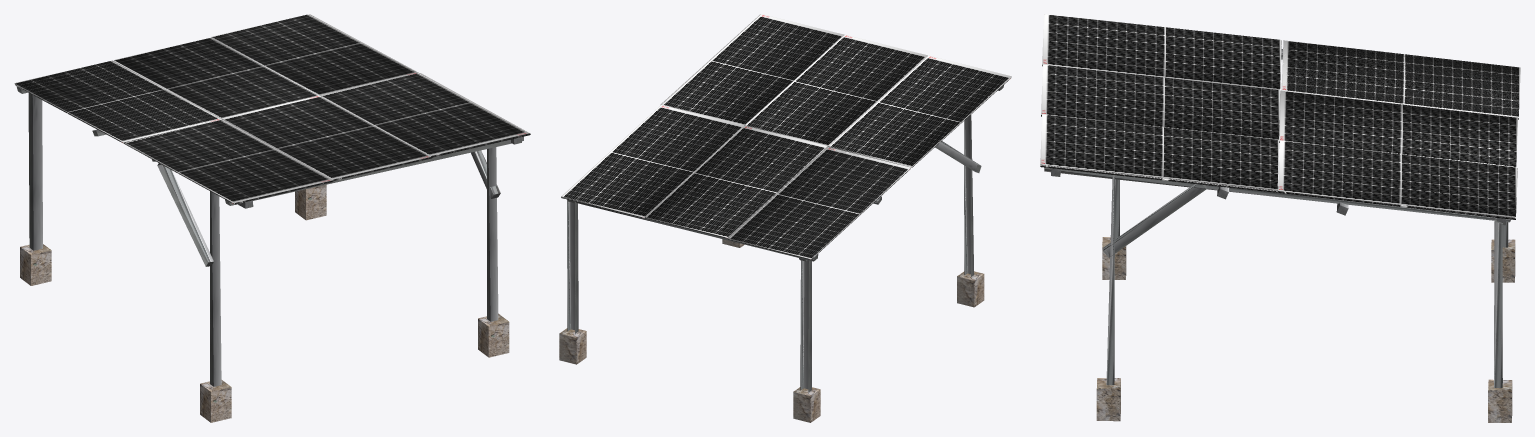
File: six panel  with 4 legs dcr  .fbx
3 renders of one model, left to right at view 1: azimuth 30°, elevation 25°; view 2: azimuth 150°, elevation 25°; view 3: azimuth 270°, elevation 25°, orthographic. The views are drawn at different scales.
Parts seen in each view (by area): view 1: panel3.001, panel2.001, panel6, panel.001, panel4.001, panel5, panel6.001, Cube.027, Cube.015, Cube.005, Cube.008, Cube.012 (+4 smaller); view 2: panel6, panel5, panel4.001, panel.001, panel3.001, panel2.001, panel6.001, Cube.027, Cube.018, Cube.015, Cube, Cube.010 (+3 smaller); view 3: panel.001, panel4.001, panel6, panel3.001, panel5, panel2.001, panel6.001, Cube.002, Cube.018, Cube.007, Cube.005, Cube.012 (+5 smaller).
Boxes of the visible parts, left/top/right/bottom form: panel3.001: left=125, top=120, right=333, bottom=204; panel2.001: left=224, top=96, right=432, bottom=180; panel6: left=14, top=60, right=222, bottom=143; panel.001: left=321, top=73, right=529, bottom=156; panel4.001: left=211, top=14, right=418, bottom=96; panel5: left=114, top=37, right=321, bottom=119; panel6.001: left=18, top=62, right=221, bottom=139; Cube.027: left=28, top=93, right=42, bottom=250; Cube.015: left=210, top=191, right=221, bottom=386; Cube.005: left=487, top=147, right=498, bottom=321; Cube.008: left=157, top=163, right=213, bottom=266; Cube.012: left=478, top=313, right=509, bottom=357; panel6: left=728, top=147, right=910, bottom=259; panel5: left=645, top=125, right=827, bottom=238; panel4.001: left=561, top=105, right=744, bottom=216; panel.001: left=661, top=14, right=844, bottom=125; panel3.001: left=829, top=55, right=1011, bottom=166; panel2.001: left=745, top=35, right=927, bottom=145; panel6.001: left=730, top=147, right=898, bottom=258; Cube.027: left=800, top=260, right=811, bottom=392; Cube.018: left=567, top=199, right=578, bottom=333; Cube.015: left=964, top=114, right=974, bottom=276; Cube: left=559, top=328, right=586, bottom=364; Cube.010: left=793, top=387, right=820, bottom=422; panel.001: left=1040, top=114, right=1279, bottom=190; panel4.001: left=1278, top=140, right=1517, bottom=218; panel6: left=1281, top=40, right=1520, bottom=119; panel3.001: left=1042, top=14, right=1281, bottom=89; panel5: left=1279, top=90, right=1518, bottom=167; panel2.001: left=1041, top=64, right=1280, bottom=139; panel6.001: left=1282, top=44, right=1520, bottom=117; Cube.002: left=1044, top=167, right=1510, bottom=222; Cube.018: left=1494, top=219, right=1502, bottom=387; Cube.007: left=1103, top=184, right=1206, bottom=257; Cube.005: left=1106, top=175, right=1114, bottom=385; Cube.012: left=1096, top=378, right=1120, bottom=421.
Size of the model in its own units: 354 by 269 by 463.
